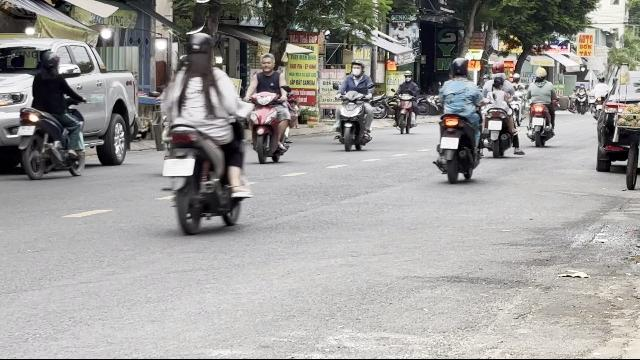helmet: (184, 31, 216, 72), (449, 57, 468, 78), (44, 52, 60, 72), (348, 58, 364, 76)
licenseplate: (162, 158, 195, 176), (441, 137, 459, 149), (18, 126, 34, 136)
motorcyclist: (157, 29, 253, 234), (17, 49, 87, 180), (432, 57, 482, 181), (244, 52, 294, 164), (332, 58, 376, 152)
nohelmet: (259, 52, 275, 72)
